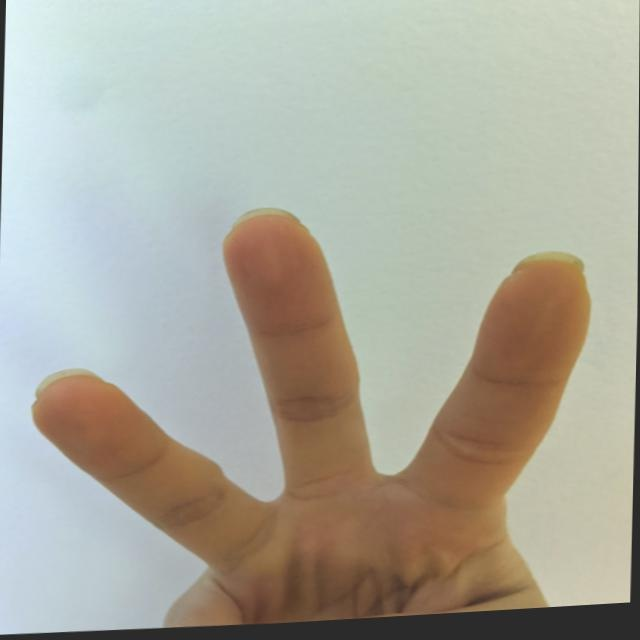W: (15, 180, 605, 638)
